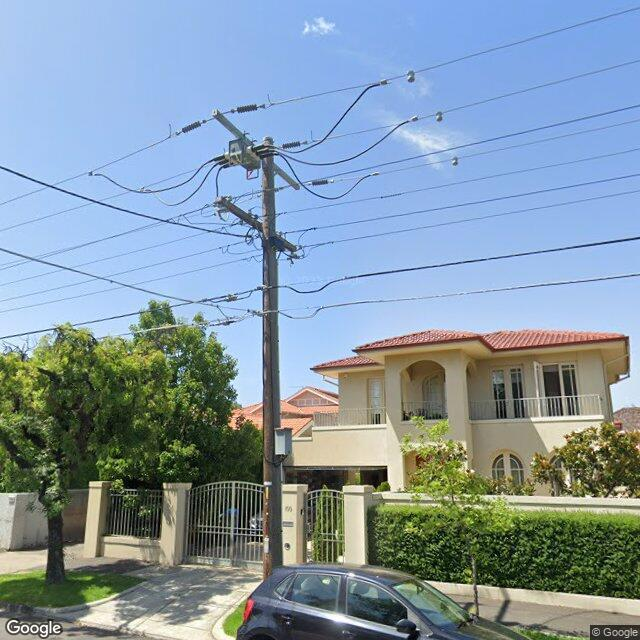HV-switch: (213, 146, 273, 170)
HV-transmission: (174, 104, 334, 194)
crossarm: (211, 109, 299, 190), (214, 197, 297, 252)
timber-pole: (262, 137, 282, 580)
